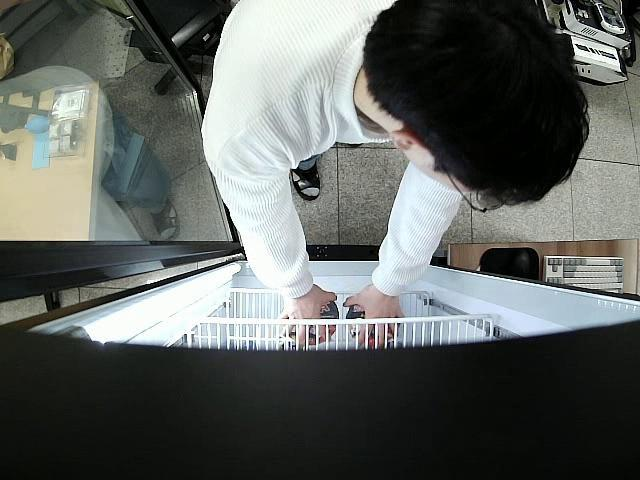07_buldak_L: (286, 300, 339, 346), (347, 305, 396, 348)
